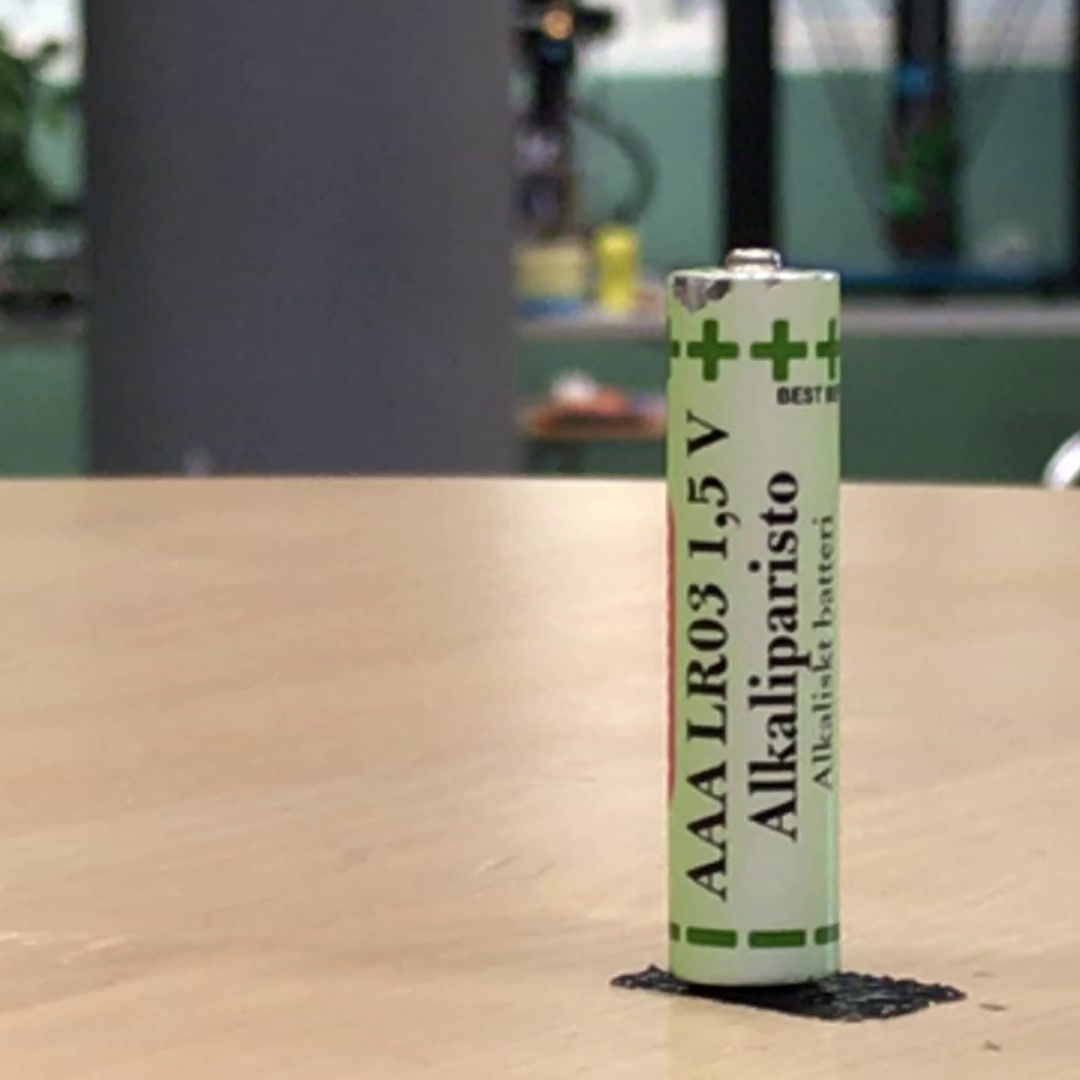keyword: (676, 399, 738, 570), (737, 767, 807, 851)
